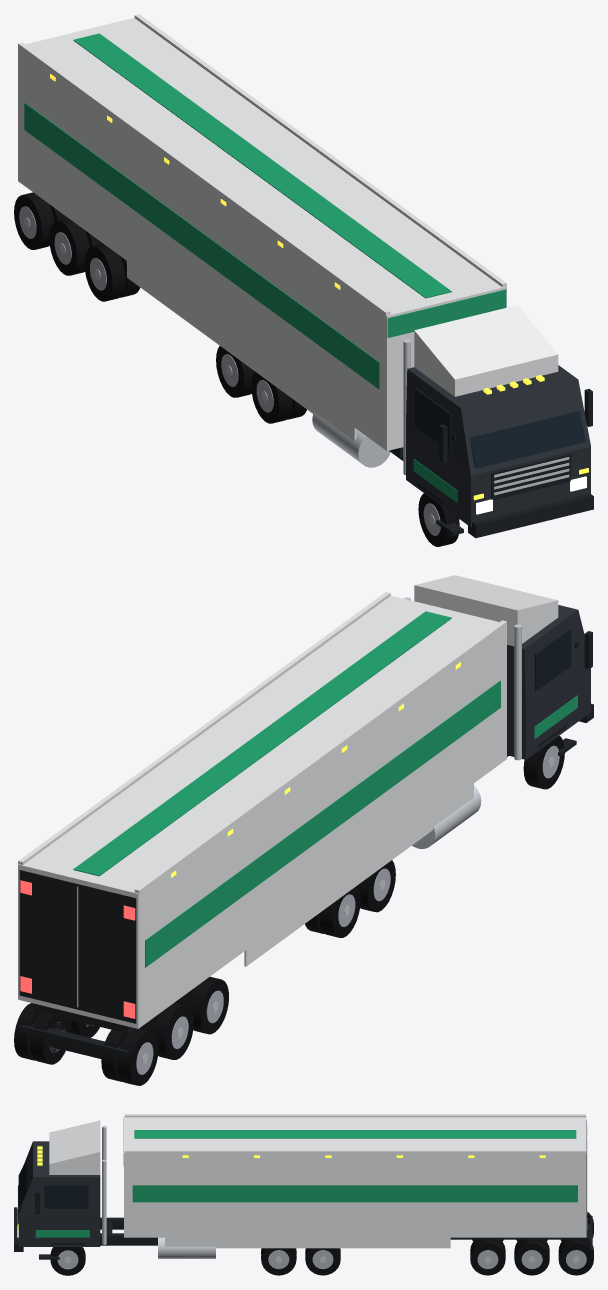
Rendered from truck-on_time.glb.
3 renders of one model, top to bottom at view 1: azimuth 30°, elevation 25°; view 2: azimuth 150°, elevation 25°; view 3: azimuth 270°, elevation 25°, orthographic. The views are drawn at different scales.
Visible parts, largest first — view 1: tractocamion; view 2: tractocamion; view 3: tractocamion.
Part boxes in pixels (x1,y1,x2,y2): tractocamion: (14, 14, 593, 546); tractocamion: (14, 575, 593, 1085); tractocamion: (14, 1114, 593, 1275).
Size of the model in its own units: 3.2 by 4.06 by 17.06.
